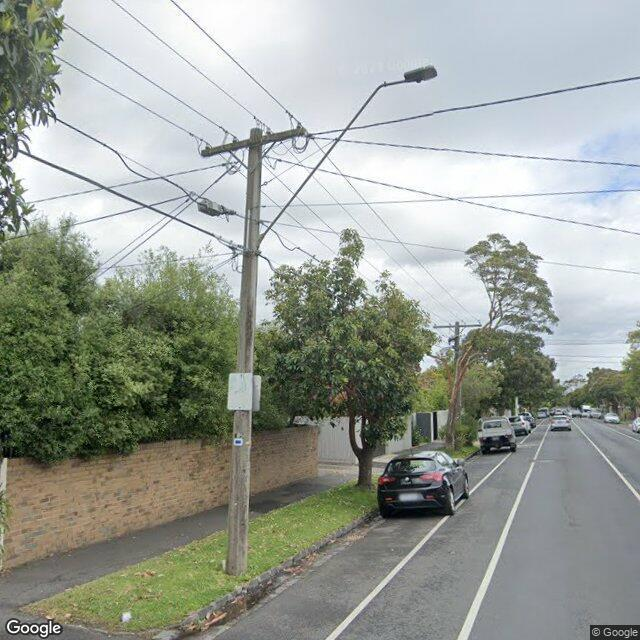crossarm: (200, 127, 306, 157), (433, 324, 482, 328)
streetlight: (256, 65, 438, 249)
timber-pole: (225, 127, 262, 576), (454, 322, 460, 364)
